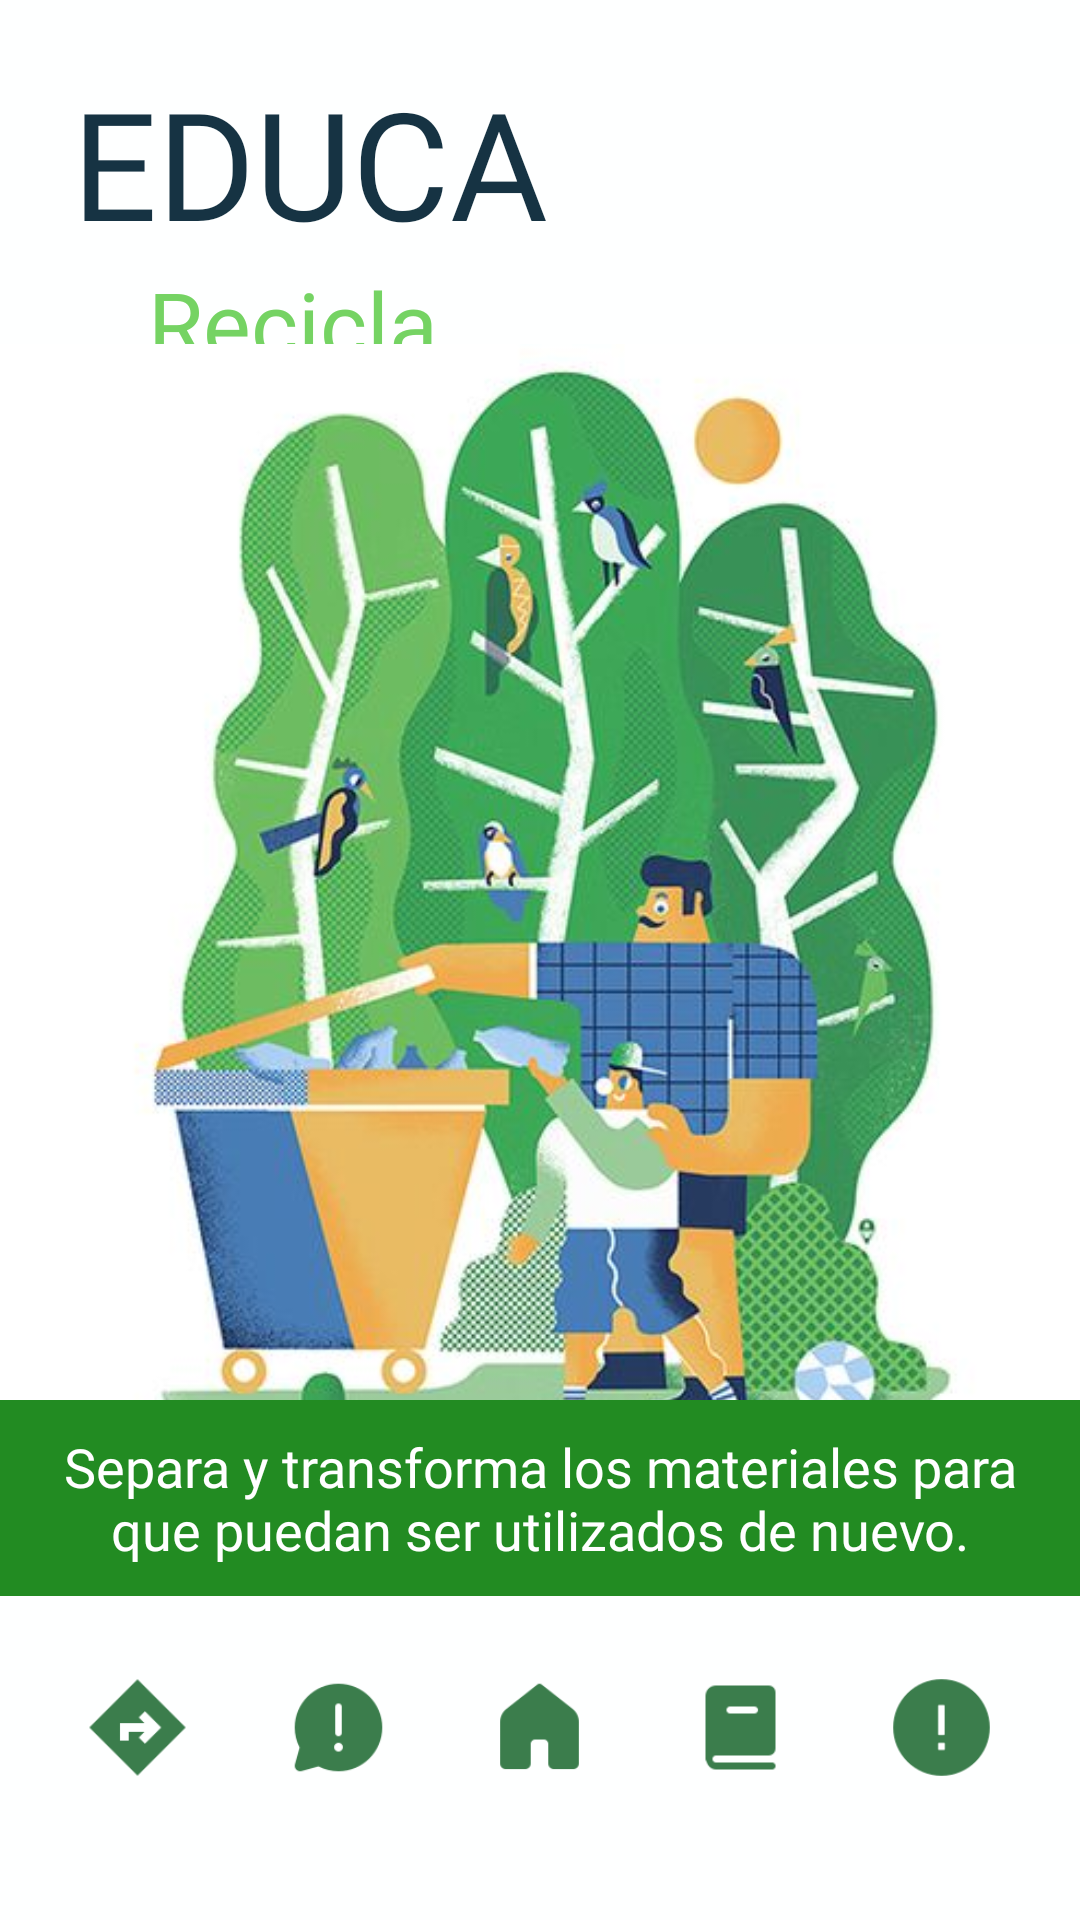

Icons on this 1080px×1920px Android screen, each with its box as (x1, y1, x2, y2):
educaicono: (705, 1685, 776, 1770)
inicioicono: (500, 1683, 579, 1769)
notificacionicono: (294, 1683, 383, 1772)
reportesicono: (893, 1679, 990, 1776)
rutasicono: (89, 1679, 186, 1776)
